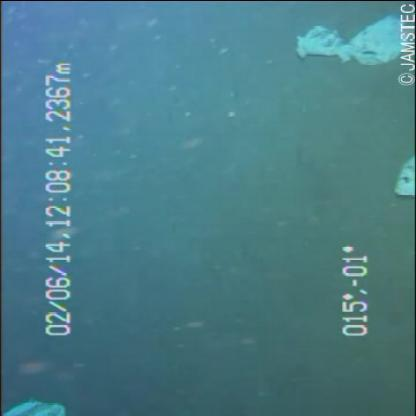Rác: (276, 6, 414, 74), (389, 152, 415, 200)
